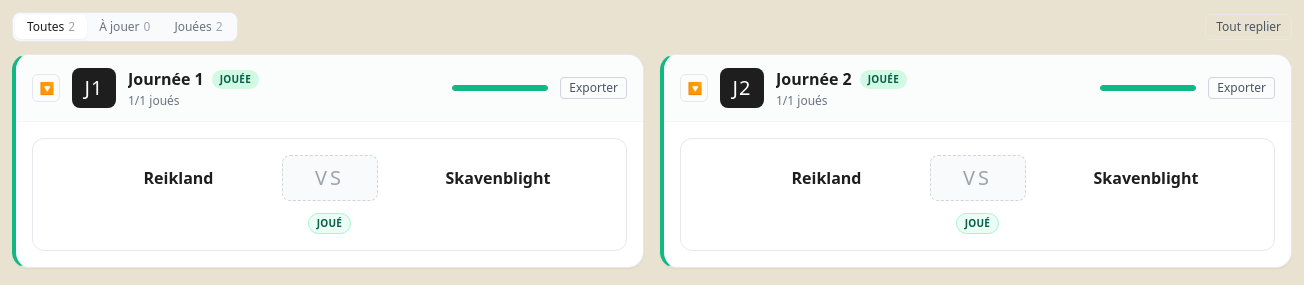
Test: SeasonCalendar — pliage du calendrier complet › ne propose rien quand aucune journée n'est visible
Click the tab with test id "calendar-filter-upcoming".
click(125, 27)  # box [87, 15, 162, 39]
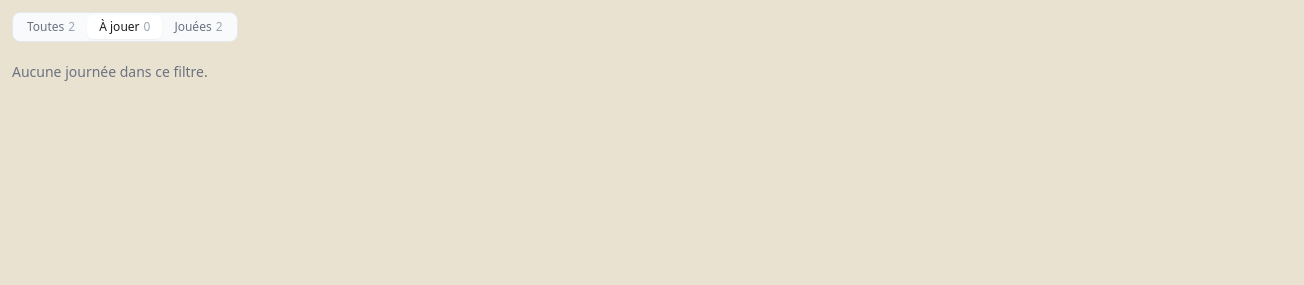
Expected: the button with test id "calendar-toggle-all" is gone
Expected: the text "Aucune journée dans ce filtre." is shown, [12, 62, 208, 81]
